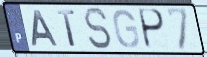7: (165, 5, 191, 53)
A: (31, 9, 60, 48)
G: (112, 8, 141, 50)
P: (138, 7, 167, 51)
S: (82, 7, 114, 51)
T: (55, 8, 78, 48)
